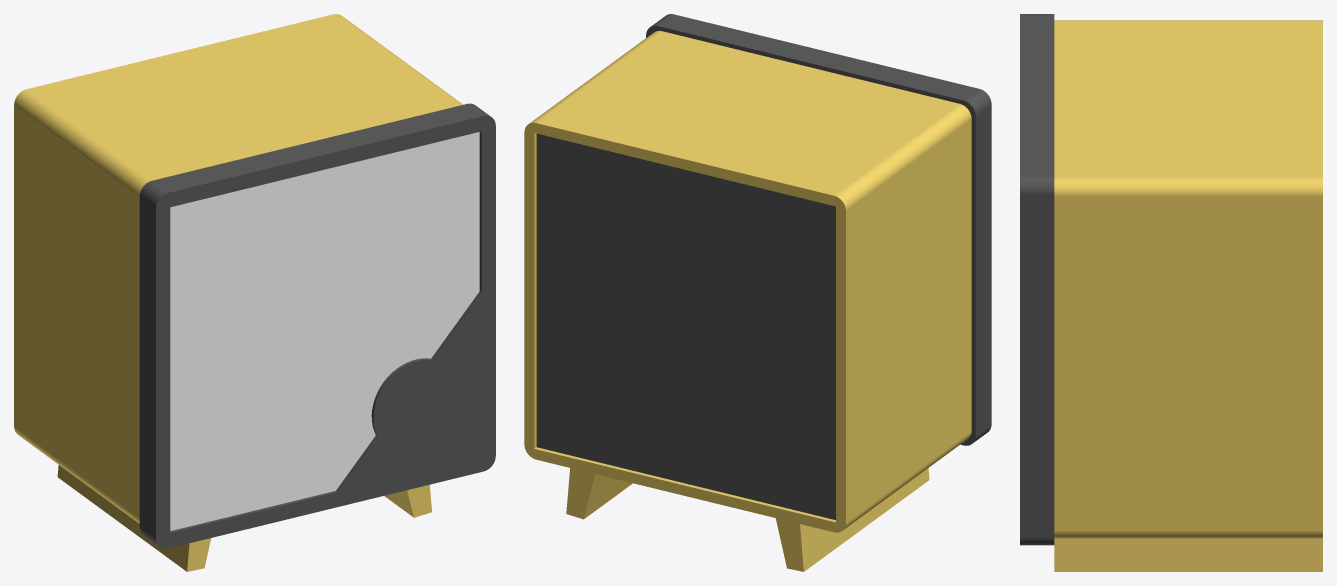
The model's file is VoltmeterVr2.fbx.
The picture shows the model from 3 angles, left to right: view 1: azimuth 30°, elevation 25°; view 2: azimuth 150°, elevation 25°; view 3: azimuth 270°, elevation 25°; orthographic projection. The views are drawn at different scales.
Parts seen in each view (by area): view 1: Body1.002, Body2.001, Body1.001; view 2: Body2.001, Body1.003, Body1.001; view 3: Body2.001, Body1.001.
Part boxes in pixels (x1,y1,x2,y2): Body1.002: (170,132,479,530); Body2.001: (14,14,462,571); Body1.001: (139,103,495,548); Body2.001: (524,30,971,571); Body1.003: (536,133,835,519); Body1.001: (646,14,991,445); Body2.001: (1054,20,1322,571); Body1.001: (1020,14,1054,545).
Size of the model in its own units: 833 by 939 by 620.
